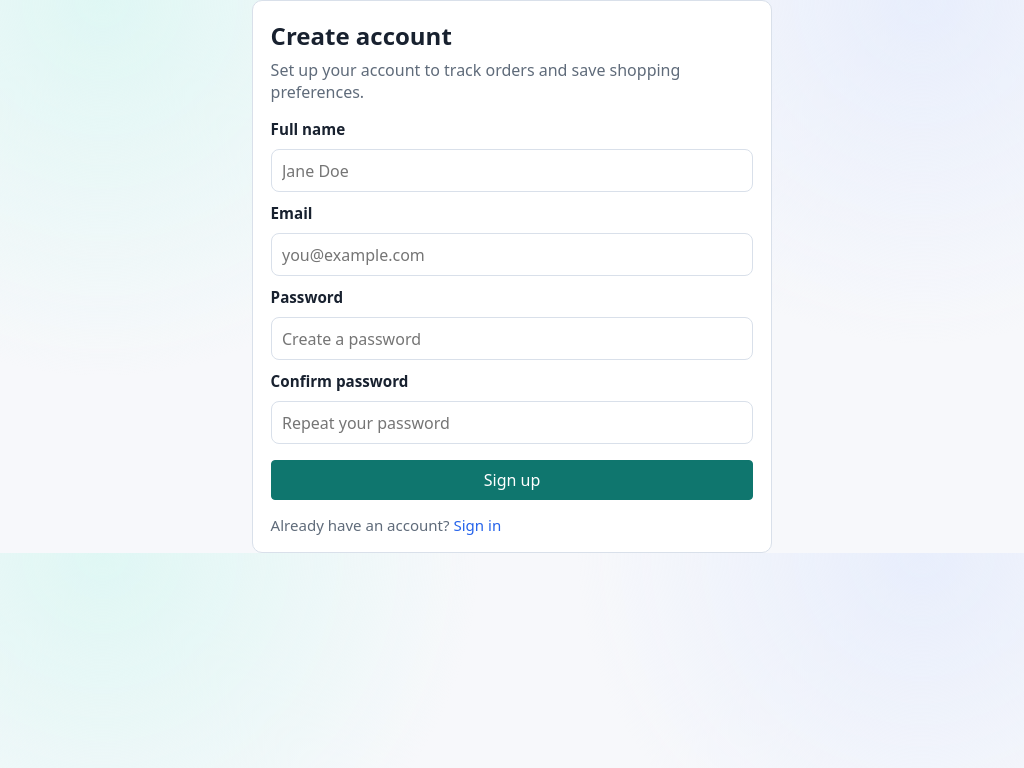
Test: SignUp › shows a signup error when registration fails
Type "New User" into the field labelled "Full name" at (512, 171), box [271, 149, 753, 192]
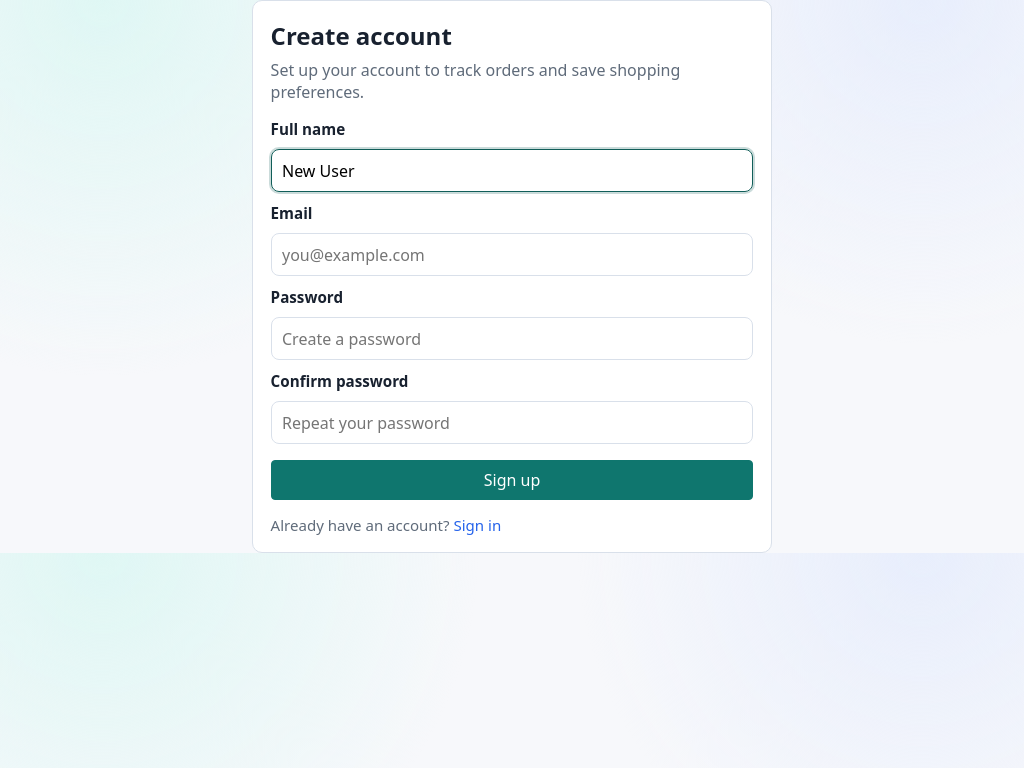
Type "new@example.com" into the field labelled "Email" at (512, 255), box [271, 233, 753, 276]
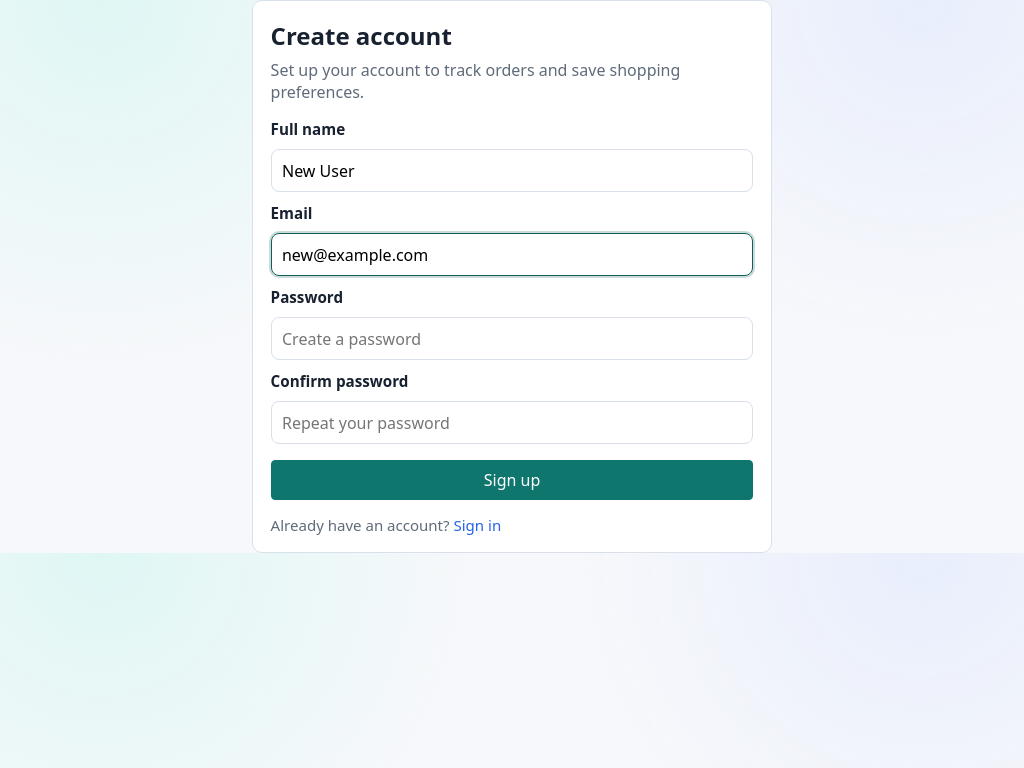
Type "secret123" into the password field labelled "Password" at (512, 339), box [271, 317, 753, 360]
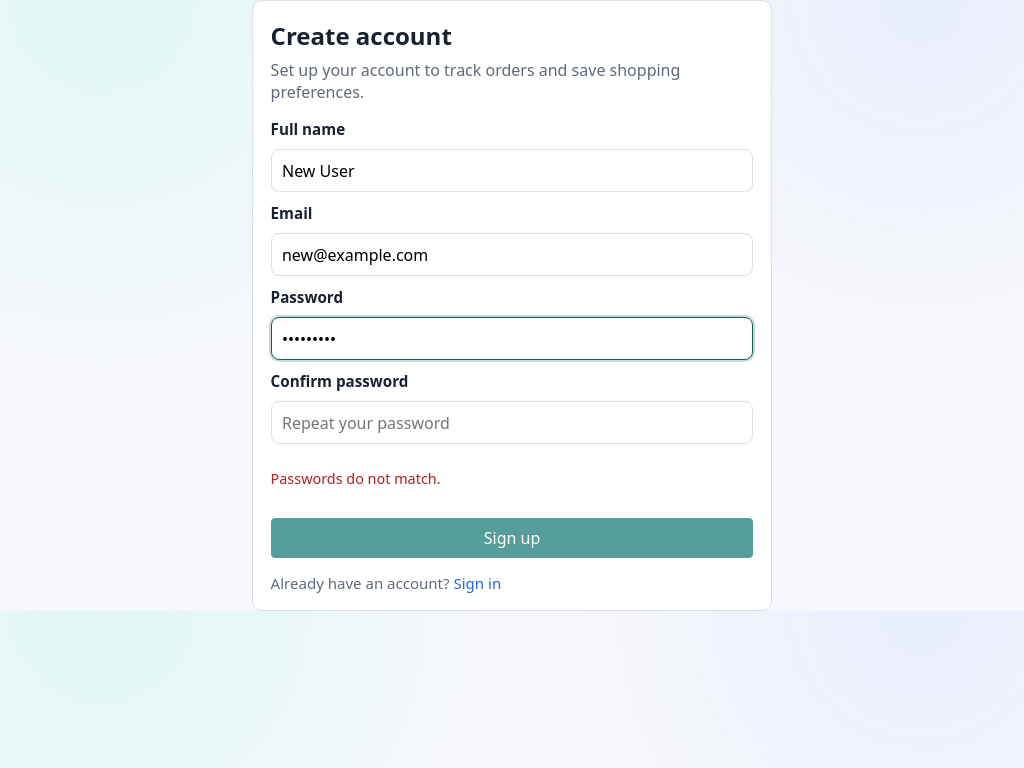
Type "secret123" into the password field labelled "Confirm password" at (512, 423), box [271, 401, 753, 444]
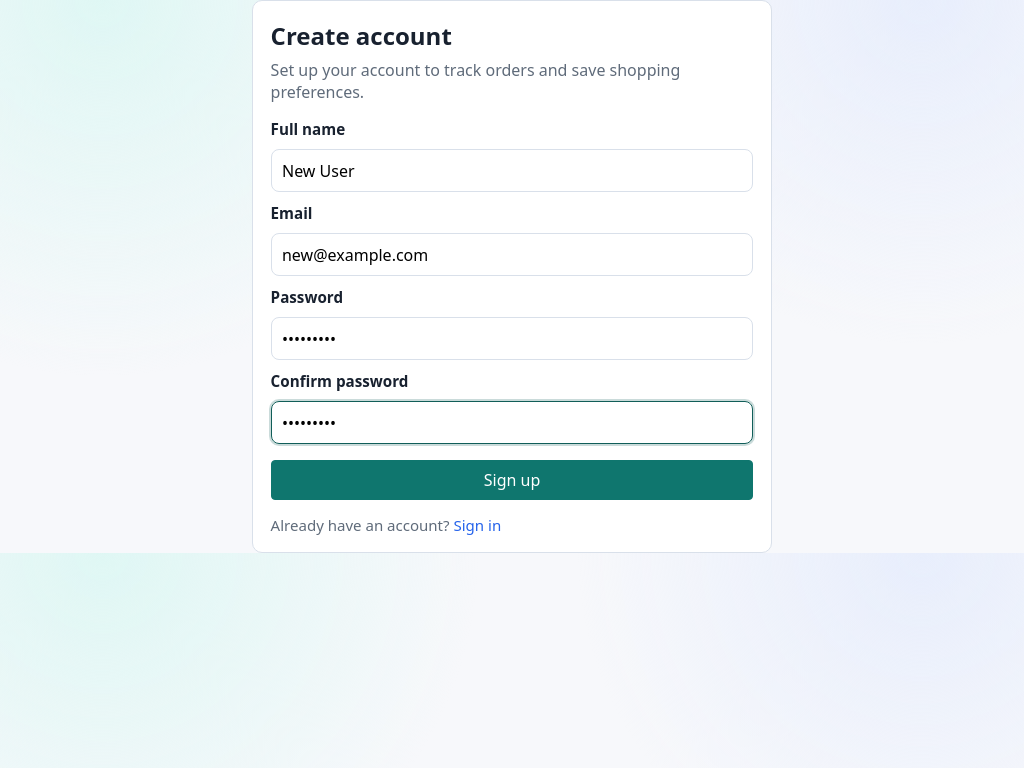
Click the button "Sign up" at (512, 480), box [271, 460, 753, 500]
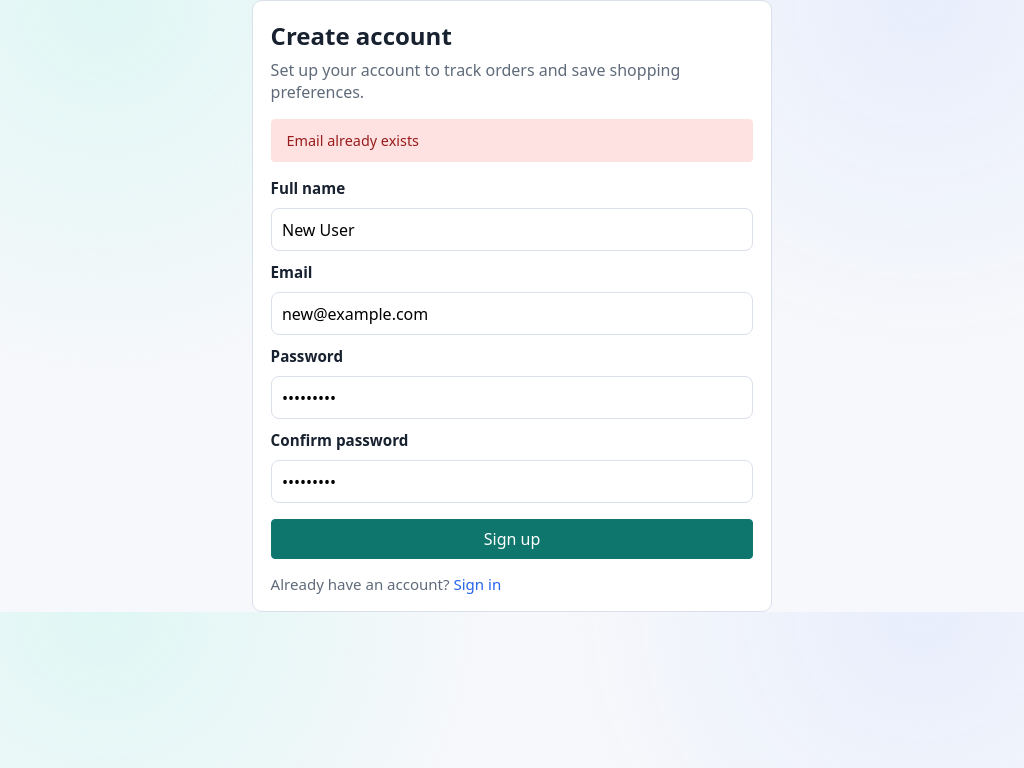
expect the message reads "Email already exists": met, box [287, 131, 419, 150]
